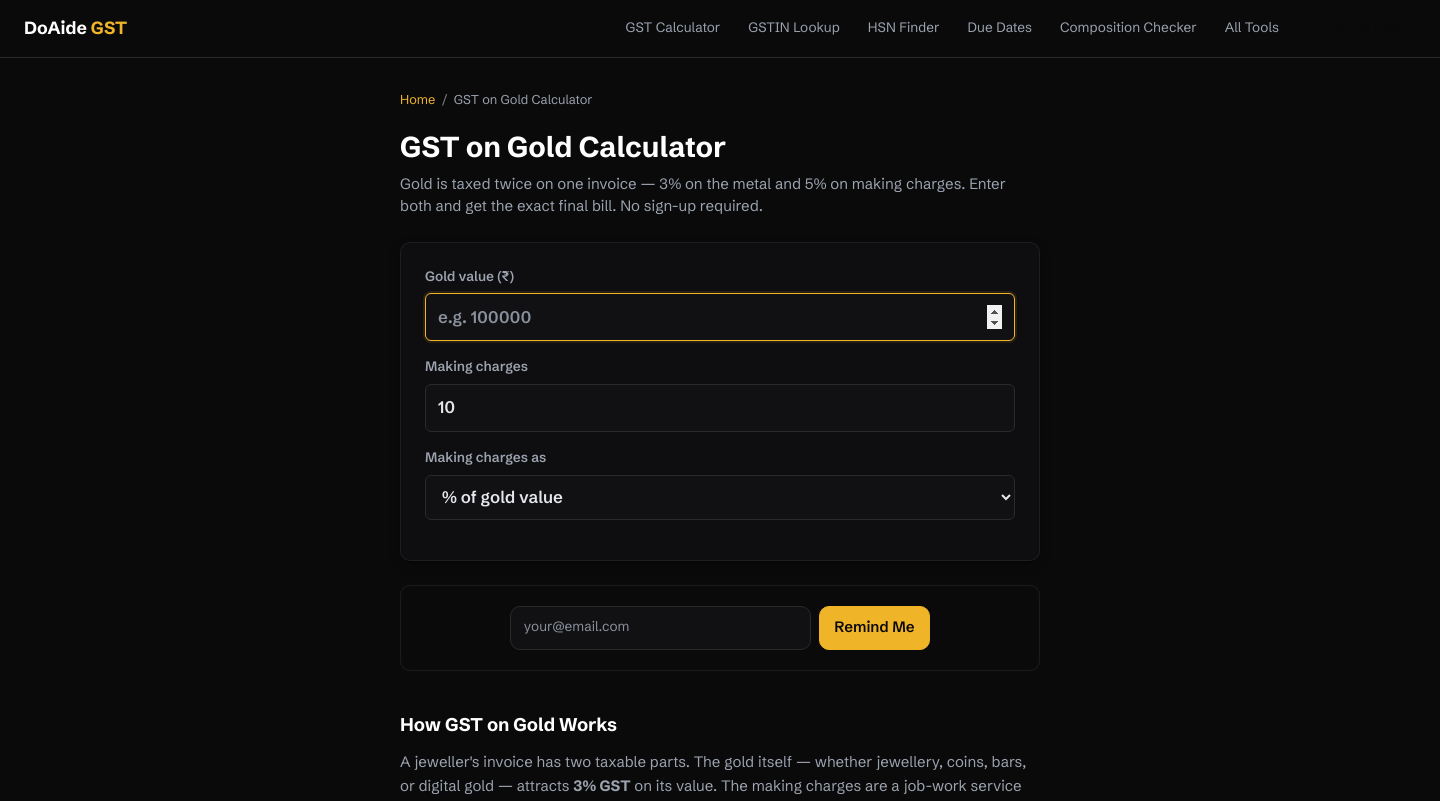
GstOnGoldPage › switches making charges to a rupee amount
Type "100000" into the number field with placeholder "e.g. 100000" at (720, 317), box [425, 293, 1015, 341]
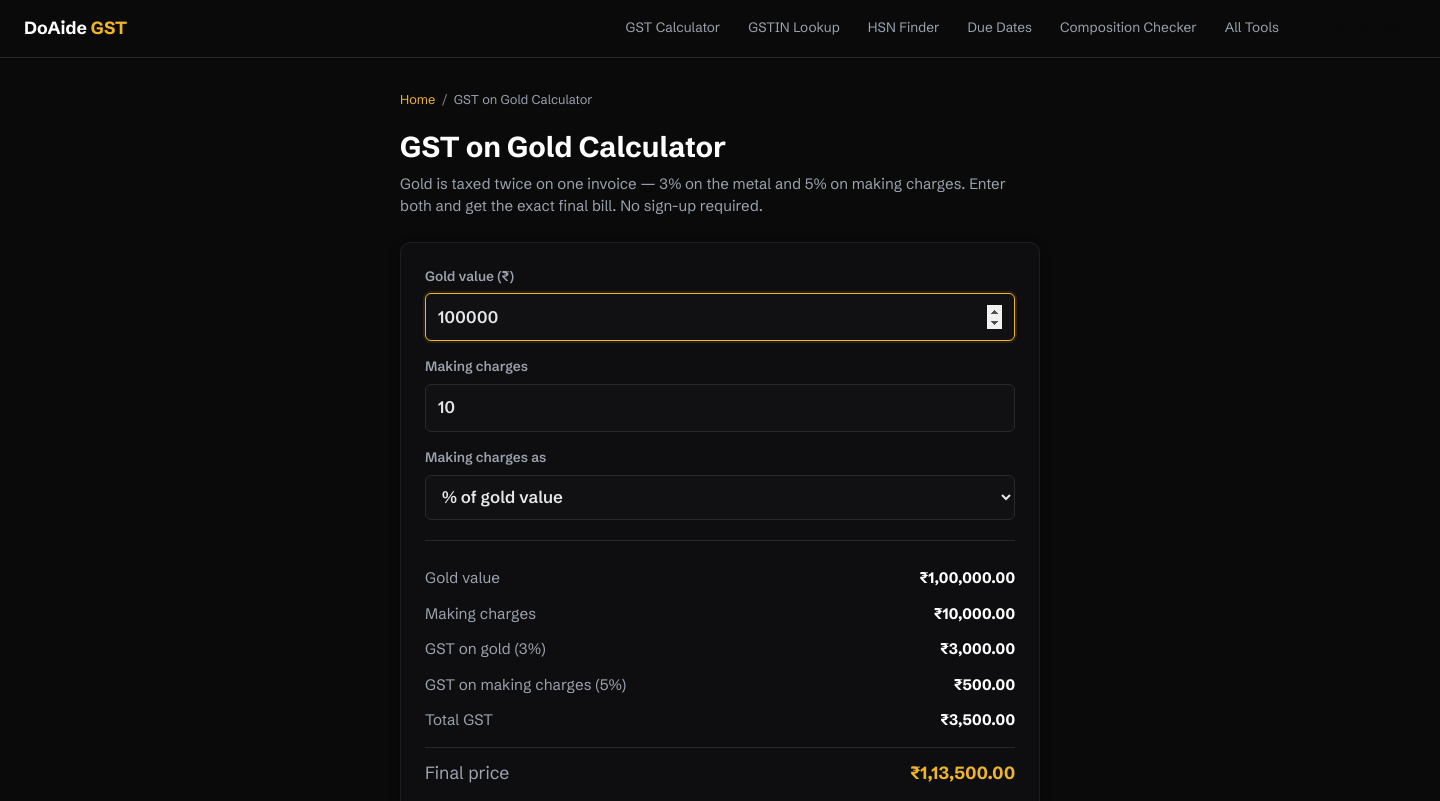
Select "₹ amount" in the dropdown at (720, 497), box [425, 475, 1015, 520]
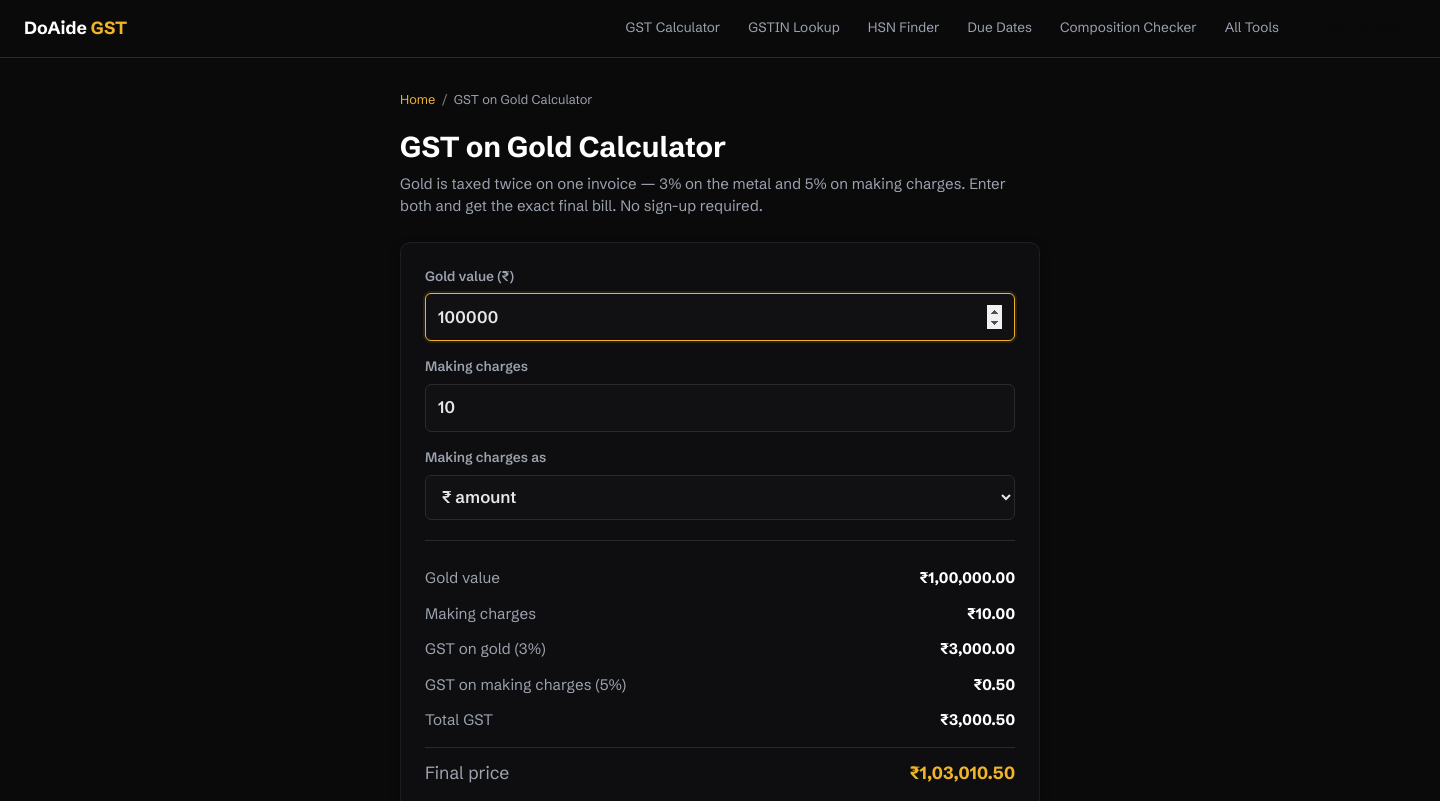
Replace the text in the number field with placeholder "e.g. 8000" with "8000" at (720, 408), box [425, 384, 1015, 432]
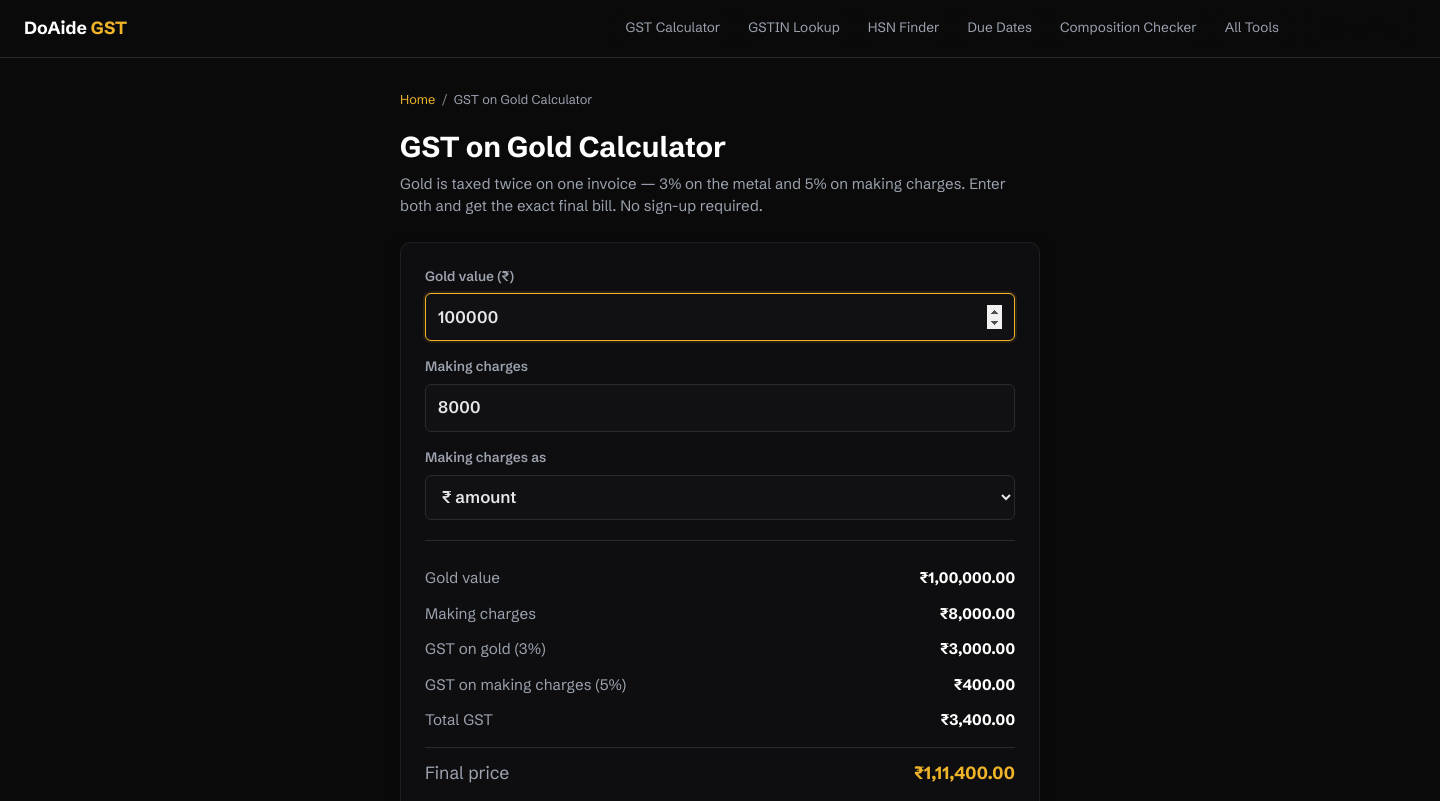
expect the text "₹400.00" is shown: met, box [954, 674, 1015, 696]
expect the text "₹1,11,400.00" is shown: met, box [914, 760, 1015, 786]
